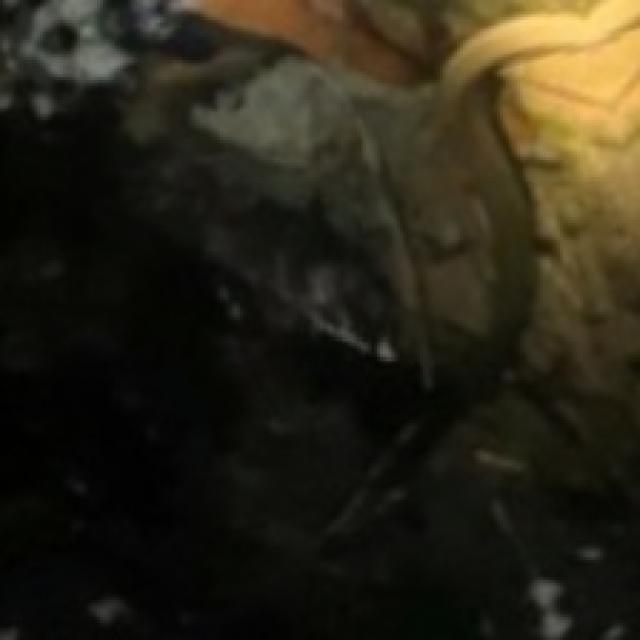king cobra: (426, 0, 640, 367)
